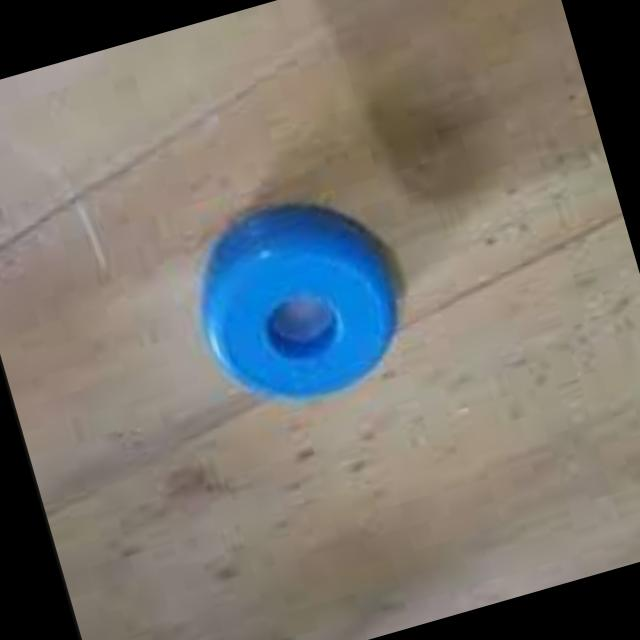TutupGalon: (173, 178, 421, 427)
